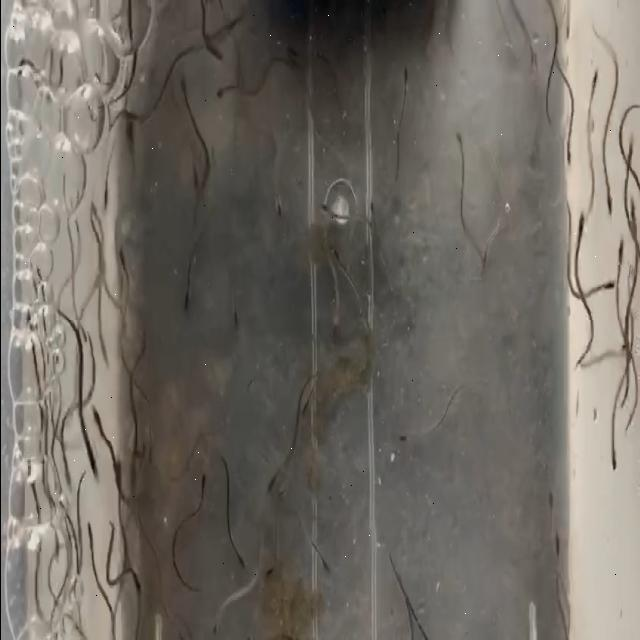active_glass_eel: (392, 414, 417, 464), (20, 307, 43, 358), (539, 474, 562, 523), (117, 95, 143, 138), (254, 459, 278, 504), (202, 33, 226, 77), (126, 560, 148, 608), (570, 195, 590, 247), (271, 182, 289, 238), (22, 434, 38, 496), (85, 216, 104, 268), (192, 470, 210, 520), (211, 74, 230, 120), (393, 66, 416, 104), (123, 41, 146, 78), (125, 419, 142, 469), (558, 130, 578, 172), (140, 433, 160, 475), (114, 239, 134, 281), (316, 182, 334, 228), (96, 180, 115, 222), (609, 228, 627, 272), (172, 66, 192, 105), (84, 452, 104, 491), (365, 186, 381, 234), (206, 582, 222, 630), (448, 129, 468, 167), (76, 312, 95, 352), (326, 238, 344, 278), (548, 522, 566, 562), (272, 478, 290, 518), (87, 398, 103, 441), (226, 300, 244, 338), (606, 436, 620, 484), (220, 520, 236, 562), (620, 192, 640, 225), (476, 232, 490, 278), (108, 456, 124, 496), (60, 457, 76, 497), (601, 271, 616, 313), (290, 40, 310, 70), (318, 545, 334, 582), (120, 0, 138, 32), (599, 186, 615, 222), (77, 258, 92, 296), (586, 64, 598, 110), (81, 513, 98, 542), (241, 606, 255, 640), (620, 136, 638, 162), (271, 535, 279, 584), (102, 514, 116, 542), (48, 540, 62, 564), (298, 398, 310, 423)
